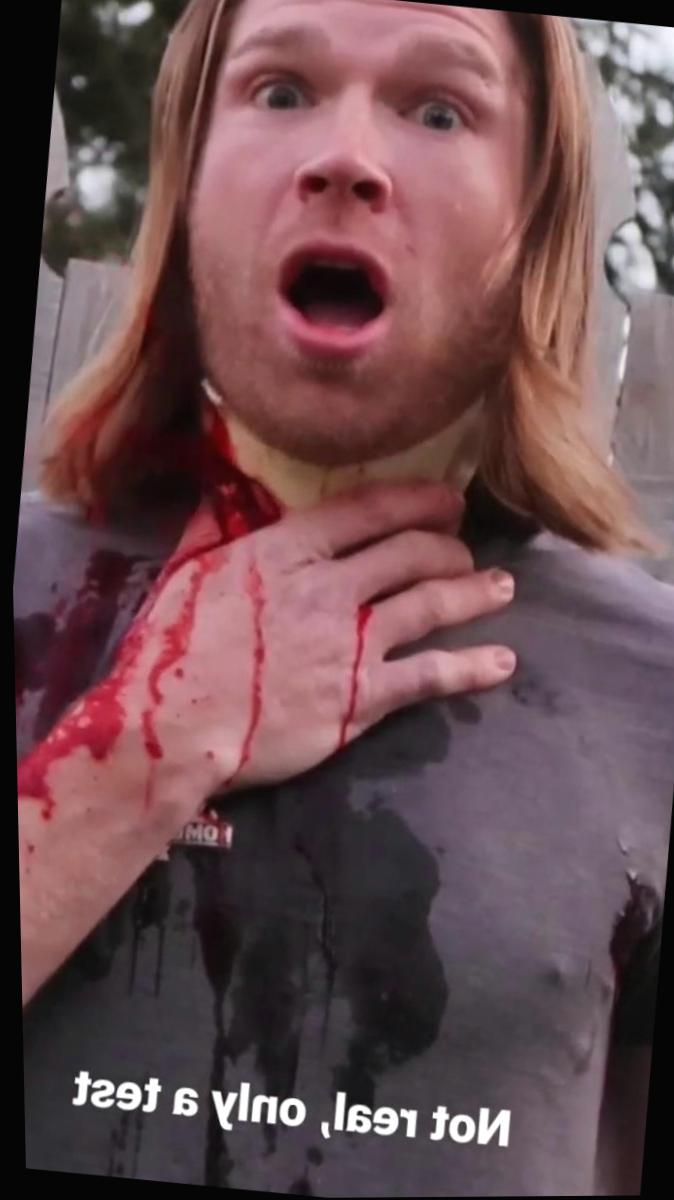Fire: (13, 503, 222, 819), (11, 550, 152, 741), (191, 415, 280, 543), (220, 538, 264, 788), (330, 604, 369, 752)
